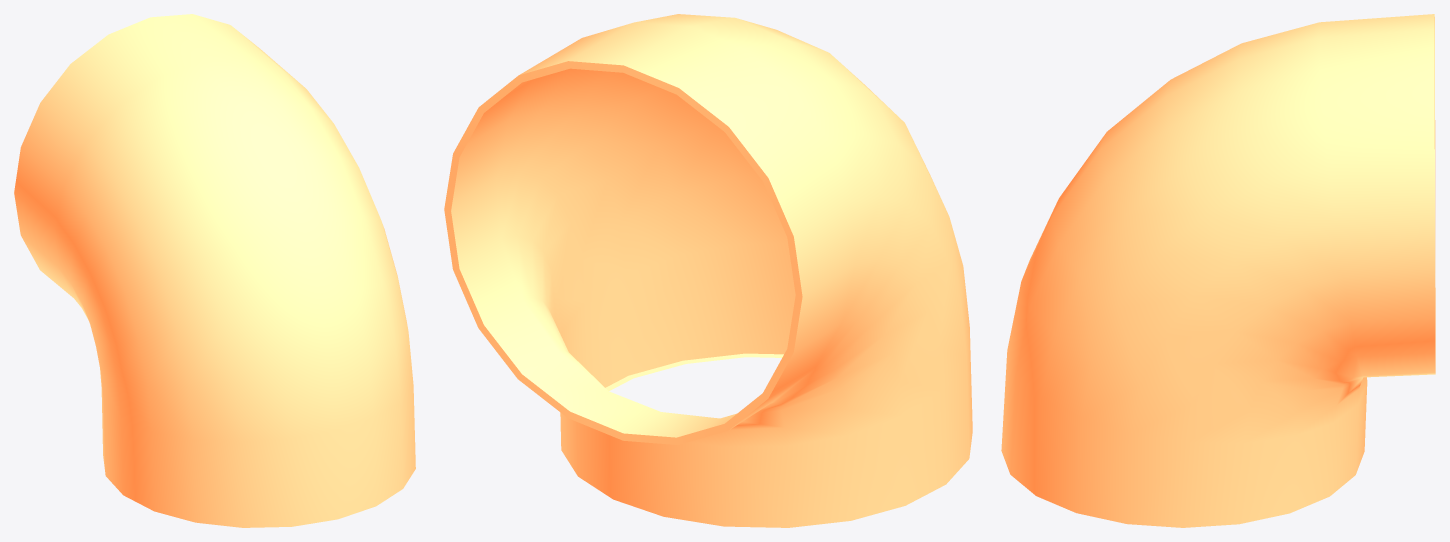
The model's file is SM_Pipe3.fbx.
3 renders of one model, left to right at view 1: azimuth 30°, elevation 25°; view 2: azimuth 150°, elevation 25°; view 3: azimuth 270°, elevation 25°, orthographic. The views are drawn at different scales.
Visible parts, largest first — view 1: SM_Pipe3_LOD0; view 2: SM_Pipe3_LOD0; view 3: SM_Pipe3_LOD0.
Boxes of the visible parts, x1,y1,x2,y2 form: SM_Pipe3_LOD0: (14,14,415,527); SM_Pipe3_LOD0: (444,14,972,527); SM_Pipe3_LOD0: (1001,14,1435,527).
Size of the model in its own units: 131 by 157 by 168.
